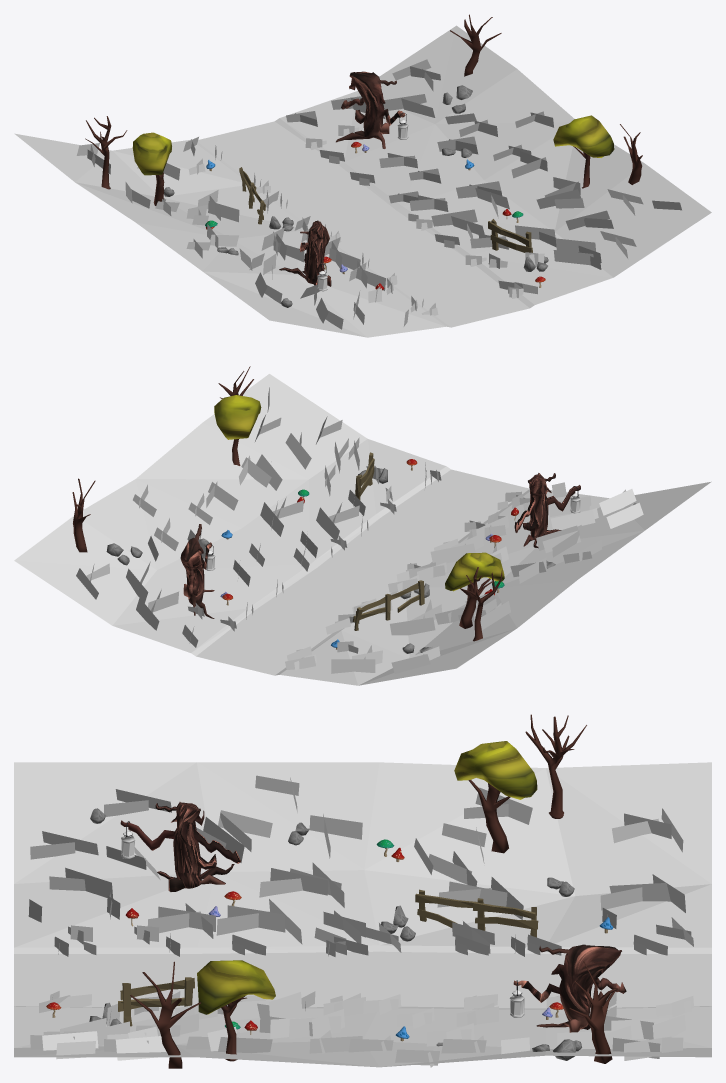
The model's file is environment1 (1).fbx.
3 renders of one model, top to bottom at view 1: azimuth 30°, elevation 25°; view 2: azimuth 150°, elevation 25°; view 3: azimuth 270°, elevation 25°, orthographic. The views are drawn at different scales.
Visible parts, largest first — view 1: zemin1, Cylinder.015, Sphere.001, Cylinder.014, Sphere, LowPolyFence_02, Cube.004, Plane.075; view 2: zemin1, Cylinder.014, Sphere.001, Cylinder.015, Sphere, LowPolyFence_01, Plane.075, Cube.004, Plane.503, Plane.464, Plane.436, Plane.487 (+2 smaller); view 3: zemin1, Cylinder.015, Cylinder.014, Sphere, Sphere.001, LowPolyFence_01, Plane.075, LowPolyFence_02, Cube.012, Cube.004, Cube.022, Plane.448 (+30 smaller).
Part boxes in pixels (x1,y1,x2,y2): zemin1: (14,25,711,337); Cylinder.015: (336,71,405,148); Sphere.001: (553,115,614,157); Cylinder.014: (279,220,331,286); Sphere: (132,132,171,175); LowPolyFence_02: (488,219,532,252); Cube.004: (450,14,501,76); Plane.075: (85,116,127,189); zemin1: (14,374,711,685); Cylinder.014: (514,473,580,548); Sphere.001: (214,395,261,439); Cylinder.015: (180,524,214,618); Sphere: (445,552,504,591); LowPolyFence_01: (352,580,424,630); Plane.075: (462,567,502,641); Cube.004: (72,478,95,552); Plane.503: (390,617,435,635); Plane.464: (331,659,375,673); Plane.436: (551,509,595,529); Plane.487: (430,543,475,565); zemin1: (14,762,711,1067); Cylinder.015: (513,944,626,1032); Cylinder.014: (120,802,241,891); Sphere: (454,741,537,799); Sphere.001: (197,960,275,1014); LowPolyFence_01: (415,889,538,937); Plane.075: (525,714,586,818); LowPolyFence_02: (118,977,194,1026); Cube.012: (130,961,200,1068); Cube.004: (569,961,617,1063); Cube.022: (468,780,510,853); Plane.448: (309,815,362,839).
Size of the model in its own units: 2250 by 527 by 2250.
